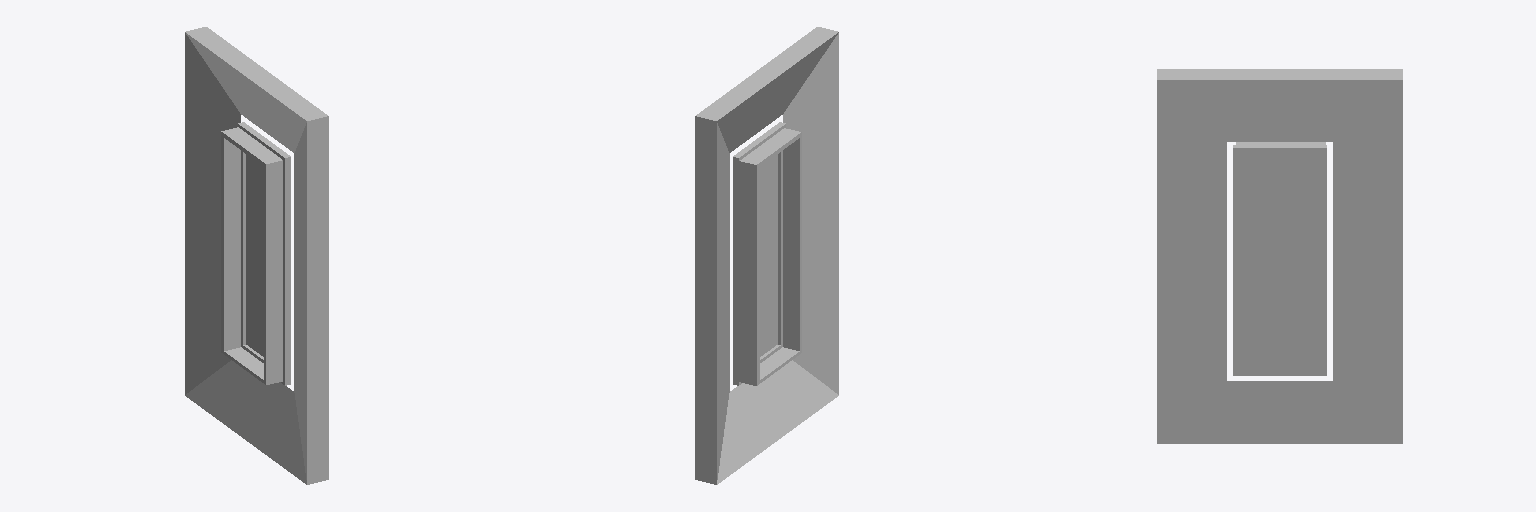
The model's file is EEC.16_CBM_Travail_de_session_01v2.obj.
3 views of the same model, side by side, from view 1: azimuth 30°, elevation 25°; view 2: azimuth 150°, elevation 25°; view 3: azimuth 270°, elevation 25° (orthographic).
Visible parts, largest first — view 1: Solid1:9, Solid1, Solid1:5, Solid1:8, Solid1:1, Solid1:4, Solid1:7, Solid1:6; view 2: Solid1:9, Solid1:8, Solid1, Solid1:5, Solid1:1, Solid1:7, Solid1:4, Solid1:6; view 3: Solid1:9, Solid1.
Part boxes in pixels (x1,y1,x2,y2): Solid1:9: (185, 27, 328, 484); Solid1: (242, 122, 290, 384); Solid1:5: (264, 159, 282, 384); Solid1:8: (221, 127, 240, 353); Solid1:1: (280, 154, 287, 385); Solid1:4: (238, 123, 245, 347); Solid1:7: (224, 129, 280, 166); Solid1:6: (224, 347, 263, 382); Solid1:9: (695, 27, 838, 484); Solid1:8: (739, 159, 759, 385); Solid1: (733, 122, 781, 384); Solid1:5: (783, 128, 801, 353); Solid1:1: (778, 123, 785, 347); Solid1:7: (743, 129, 799, 166); Solid1:4: (736, 154, 743, 385); Solid1:6: (760, 347, 799, 382); Solid1:9: (1157, 69, 1402, 443); Solid1: (1233, 146, 1326, 375).
Bounding box in the file's own units: 2250 × 33520 × 20469.